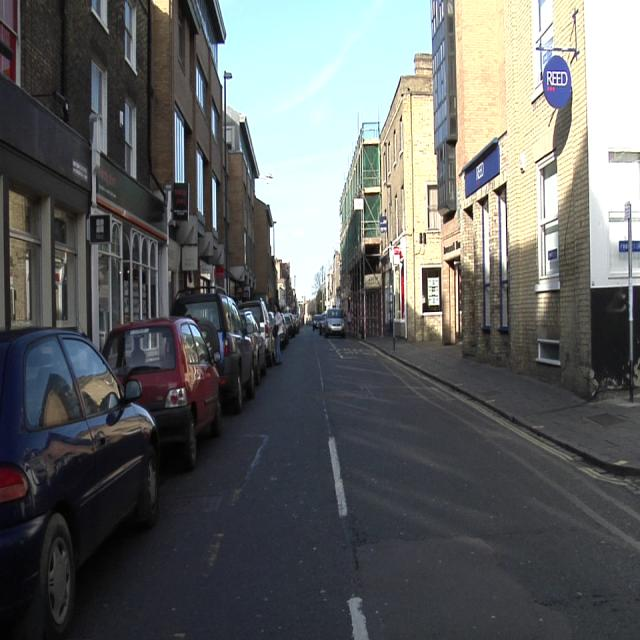Building: (335, 0, 621, 397), (7, 1, 278, 347)
Car: (1, 326, 159, 639), (104, 319, 222, 470), (173, 292, 258, 411), (242, 300, 268, 380), (323, 309, 343, 336), (284, 313, 298, 336), (312, 314, 323, 329)
Road: (73, 328, 635, 628)
